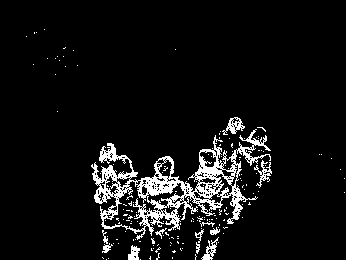person: (139, 154, 188, 259), (187, 147, 225, 259), (100, 154, 138, 256), (239, 124, 271, 206), (213, 113, 243, 164), (92, 138, 118, 187)
